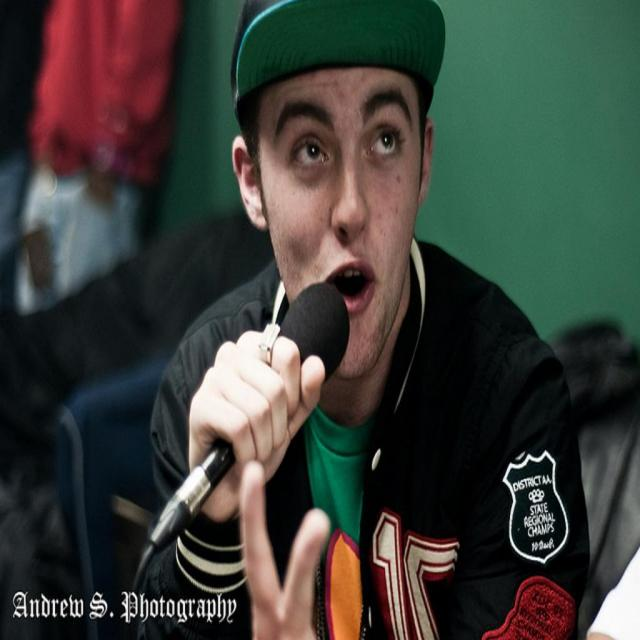nomask: (260, 57, 414, 365)
